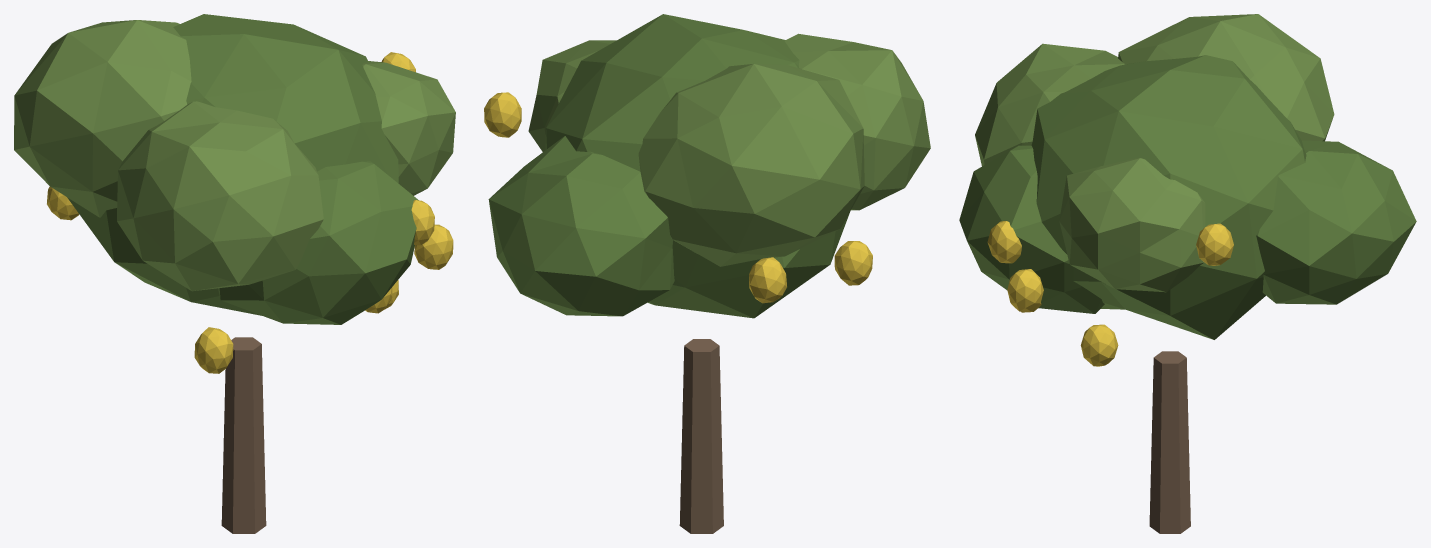
File: limon.glb
3 views of the same model, side by side, from view 1: azimuth 30°, elevation 25°; view 2: azimuth 150°, elevation 25°; view 3: azimuth 270°, elevation 25° (orthographic). The views are drawn at different scales.
Visible parts, largest first — view 1: yaprak1, yaprak2, govde, limon; view 2: yaprak1, yaprak2, govde, limon; view 3: yaprak2, yaprak1, govde, limon.
Part boxes in pixels (box(x1,y1,x2,y2)): yaprak1: box(14, 20, 455, 291); yaprak2: box(67, 14, 418, 324); govde: box(221, 337, 266, 533); limon: box(47, 52, 453, 373); yaprak1: box(528, 33, 930, 266); yaprak2: box(488, 14, 849, 318); govde: box(679, 339, 723, 533); limon: box(484, 92, 872, 303); yaprak2: box(959, 55, 1416, 339); yaprak1: box(975, 14, 1334, 292); govde: box(1149, 351, 1190, 533); limon: box(987, 221, 1233, 366).
Size of the model in its own units: 1.97 by 2.5 by 2.21.
